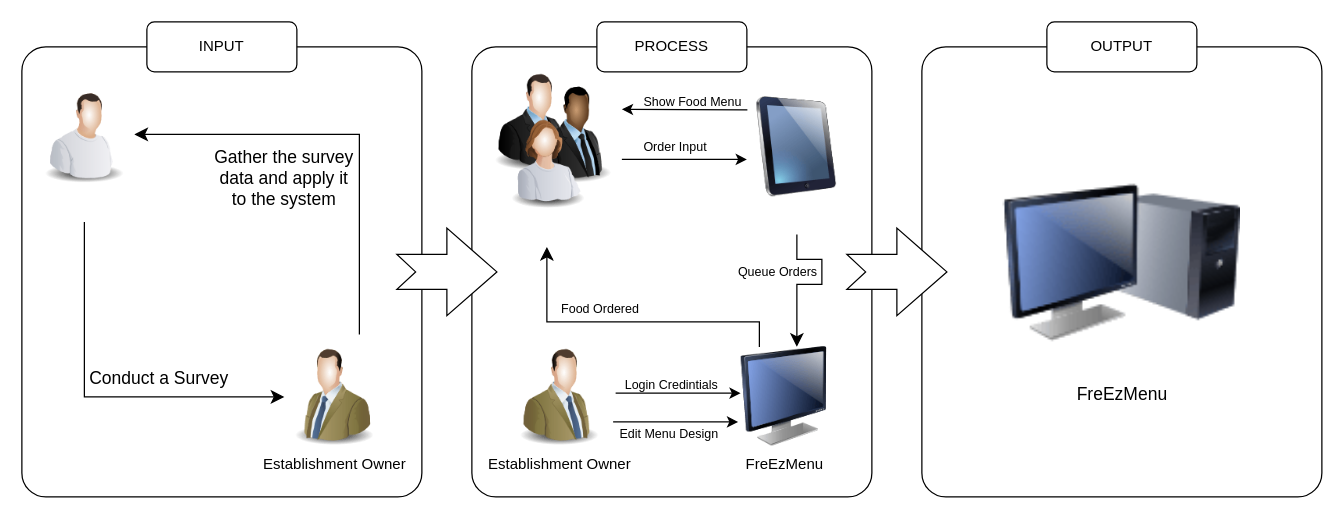
The diagram is 1344 pixels wide and 519 high, and some of its shapes have lost their labels. Each missing label, with the centre of its shape:
Customers: the point at 546,159
FrEzMenu Kiosk: the point at 796,146
Researchers: the point at 84,134
